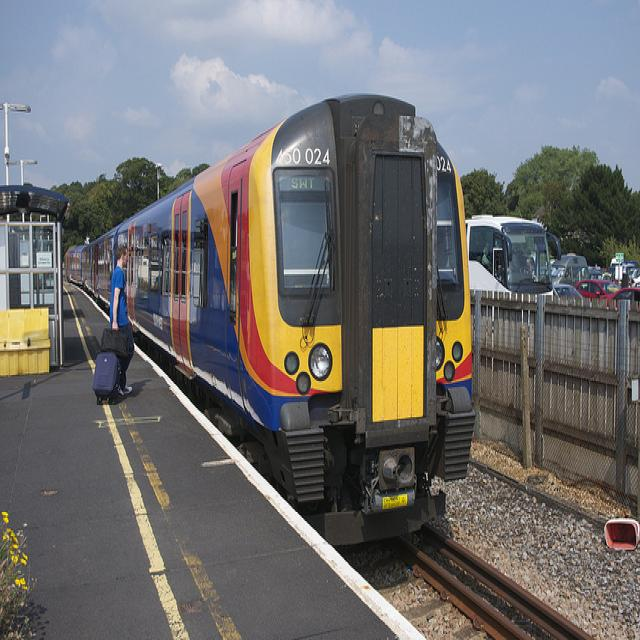Vehicle: (467, 214, 561, 296), (550, 256, 588, 286), (576, 279, 618, 299), (552, 283, 584, 307), (607, 288, 640, 310), (589, 270, 612, 279), (626, 262, 640, 276), (630, 271, 640, 288), (608, 266, 615, 280)
